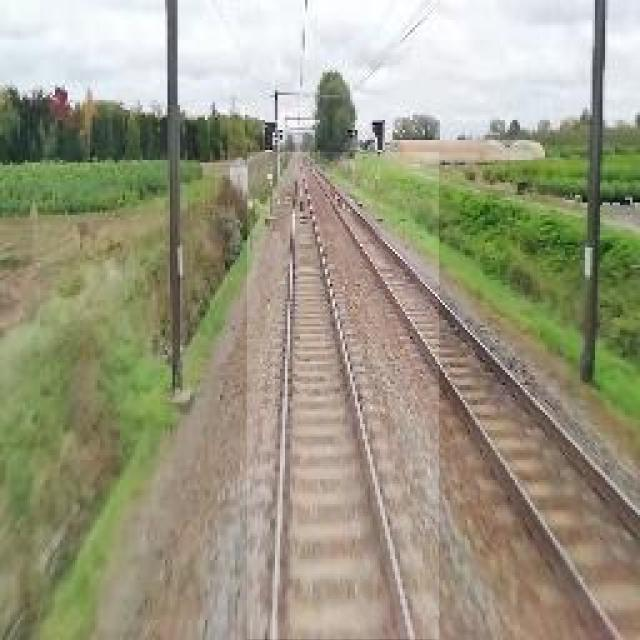rail: (248, 154, 440, 640)
